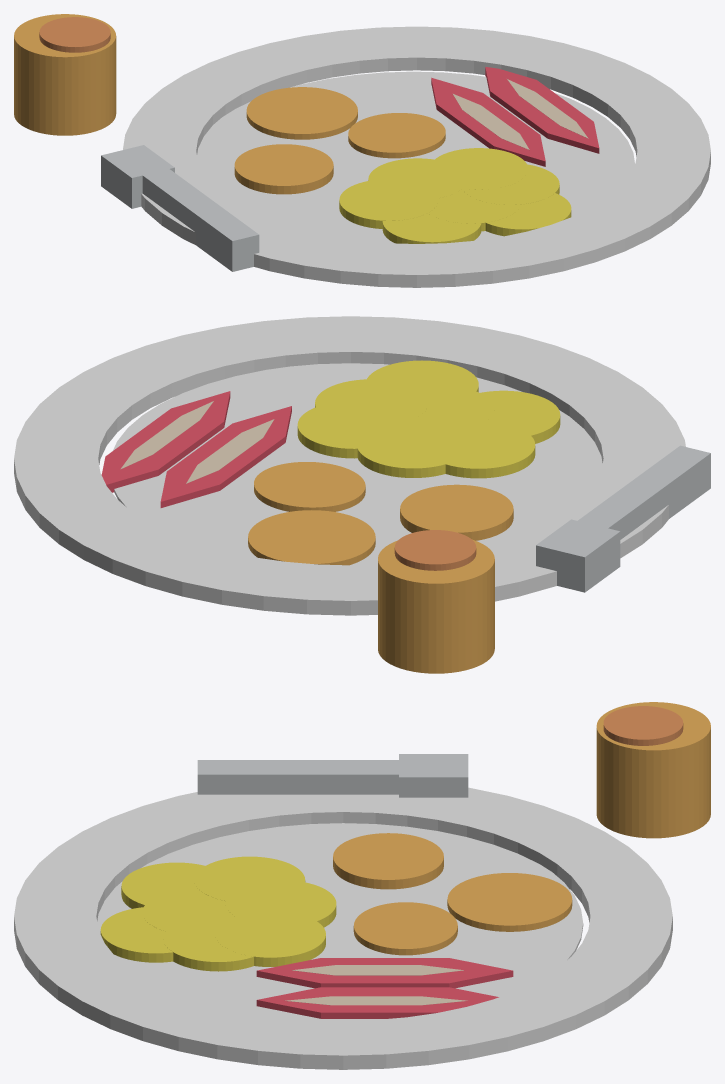
The model's file is Cooper S - Pancakes, Eggs, Bacon..glb.
The picture shows the model from 3 angles, top to bottom: view 1: azimuth 30°, elevation 25°; view 2: azimuth 150°, elevation 25°; view 3: azimuth 270°, elevation 25°; orthographic projection. The views are drawn at different scales.
Parts seen in each view (by area): view 1: Mesh_Mesh_head_geo.001_lambert2SG.001; view 2: Mesh_Mesh_head_geo.001_lambert2SG.001; view 3: Mesh_Mesh_head_geo.001_lambert2SG.001.
Part boxes in pixels (x1,y1,x2,y2): Mesh_Mesh_head_geo.001_lambert2SG.001: [14, 14, 710, 287]; Mesh_Mesh_head_geo.001_lambert2SG.001: [14, 316, 710, 673]; Mesh_Mesh_head_geo.001_lambert2SG.001: [14, 702, 710, 1069].
Bounding box in the file's own units: 0.192 × 0.031 × 0.201.
